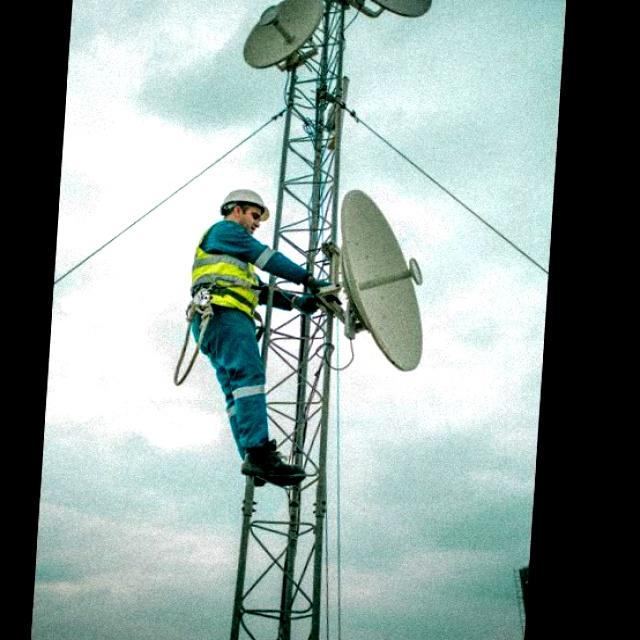Capacete: (221, 189, 269, 220)
Colete: (191, 246, 258, 317)
Pessoa: (191, 189, 329, 485)
